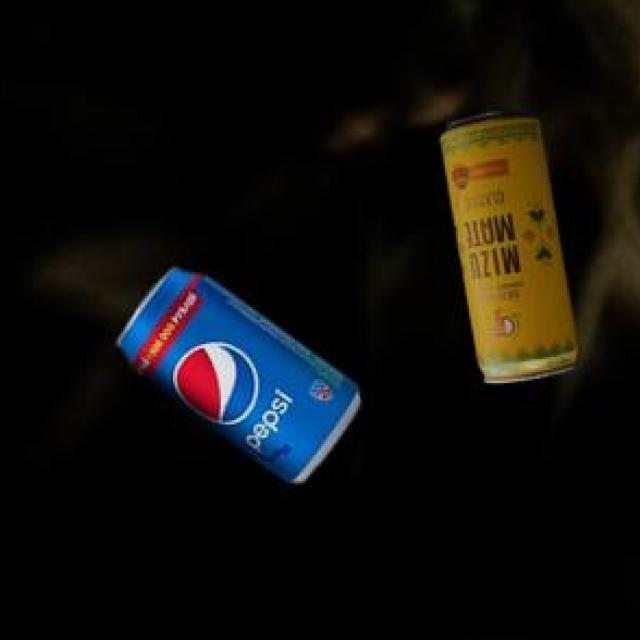logam: (121, 267, 362, 478), (443, 108, 580, 380)
